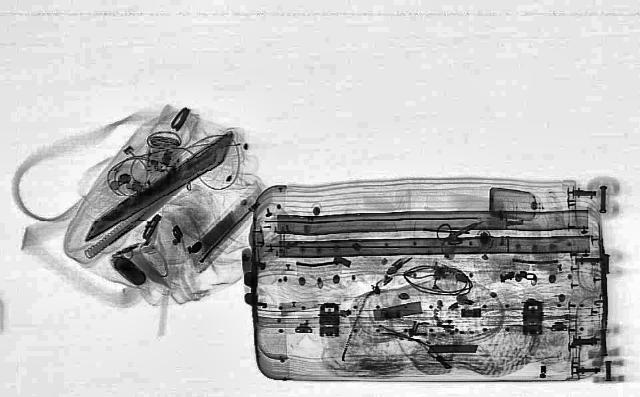Scissors: (416, 210, 498, 254)
